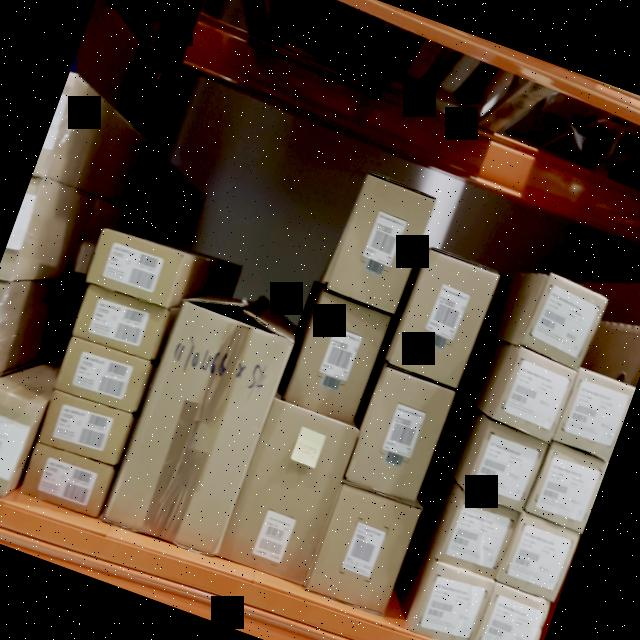box: (108, 296, 297, 555), (385, 246, 503, 393), (306, 480, 424, 615), (344, 366, 456, 502), (328, 171, 436, 312), (284, 288, 395, 420), (522, 276, 610, 372), (84, 230, 186, 308), (496, 346, 578, 442), (18, 438, 117, 516), (35, 390, 133, 468), (54, 336, 151, 414), (525, 447, 607, 538), (72, 286, 170, 362), (466, 424, 548, 512), (439, 496, 522, 582), (411, 558, 498, 640), (554, 372, 634, 458), (503, 514, 582, 598), (474, 584, 552, 640), (0, 389, 38, 500)
